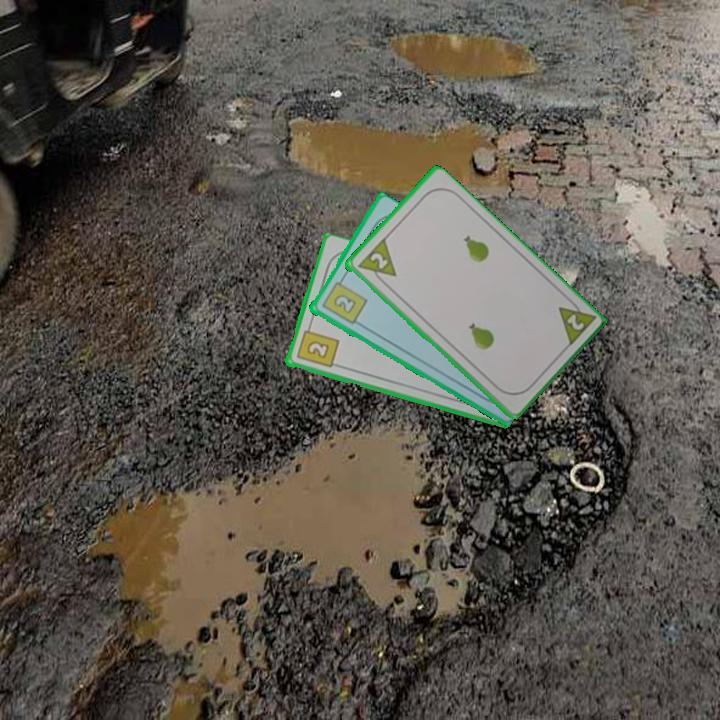2b: (318, 274, 369, 327), (293, 321, 341, 371)
2p: (554, 293, 598, 350), (354, 236, 399, 289)
